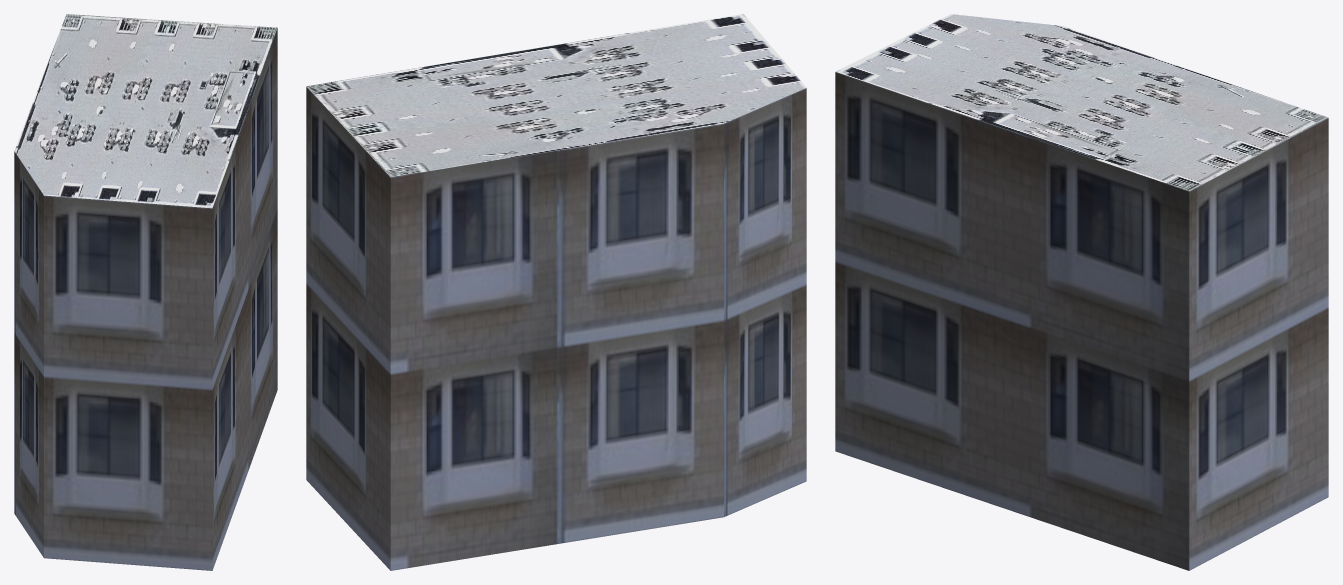
The model's file is ResTex__1187.fbx.
3 renders of one model, left to right at view 1: azimuth 30°, elevation 25°; view 2: azimuth 150°, elevation 25°; view 3: azimuth 270°, elevation 25°, orthographic. The views are drawn at different scales.
Visible parts, largest first — view 1: CityEngineMaterial_3_m, CityEngineMaterial_m; view 2: CityEngineMaterial_3_m, CityEngineMaterial_m; view 3: CityEngineMaterial_3_m, CityEngineMaterial_m.
Part boxes in pixels (bbox=[...]): CityEngineMaterial_3_m: bbox=[14, 28, 277, 570]; CityEngineMaterial_m: bbox=[14, 14, 277, 208]; CityEngineMaterial_3_m: bbox=[306, 87, 806, 570]; CityEngineMaterial_m: bbox=[306, 14, 806, 177]; CityEngineMaterial_3_m: bbox=[835, 72, 1328, 570]; CityEngineMaterial_m: bbox=[835, 14, 1327, 191].
Size of the model in its own units: 6.01 by 6 by 7.07.
Materials: 2 (2 with a texture image).
